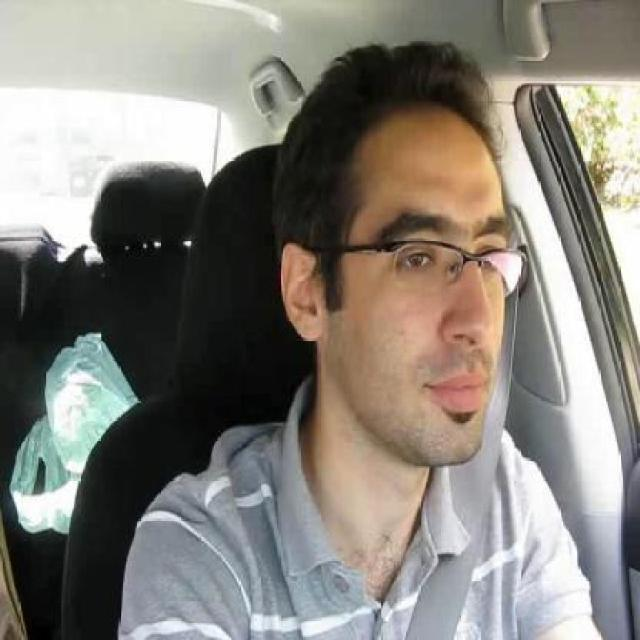awake: (397, 246, 435, 271), (480, 250, 497, 273)
